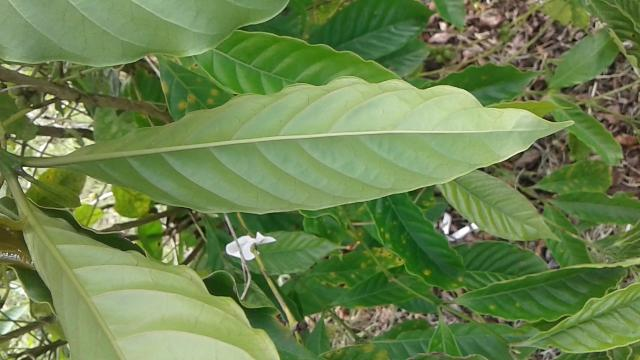healthy: (52, 74, 582, 220)
